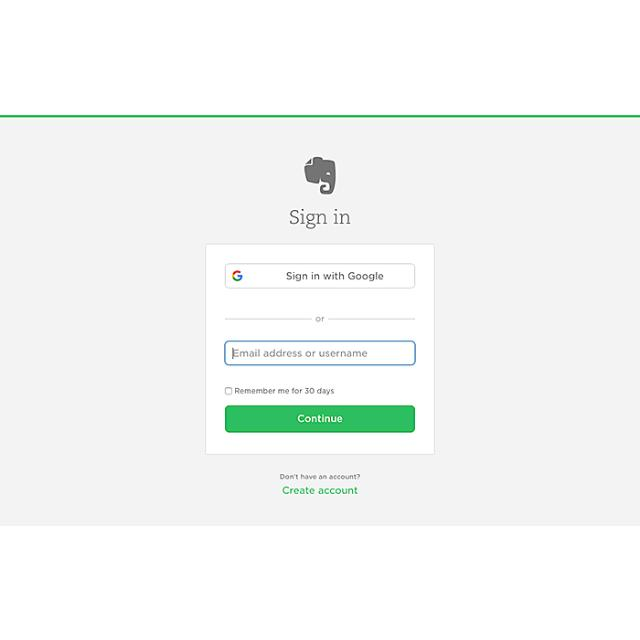QLabel: (286, 208, 352, 228), (283, 270, 385, 282), (234, 386, 334, 394), (282, 485, 358, 495), (278, 472, 362, 481), (297, 412, 343, 424), (314, 314, 324, 322)
VBtn: (223, 402, 417, 434), (224, 260, 416, 290)
VCard: (200, 239, 436, 457)
VCheckbox: (223, 384, 233, 396)
VDivider: (224, 315, 310, 321), (329, 316, 415, 320)
VIcon: (230, 269, 243, 281)
VImg: (300, 152, 342, 198)
VTextField: (222, 338, 418, 367)
